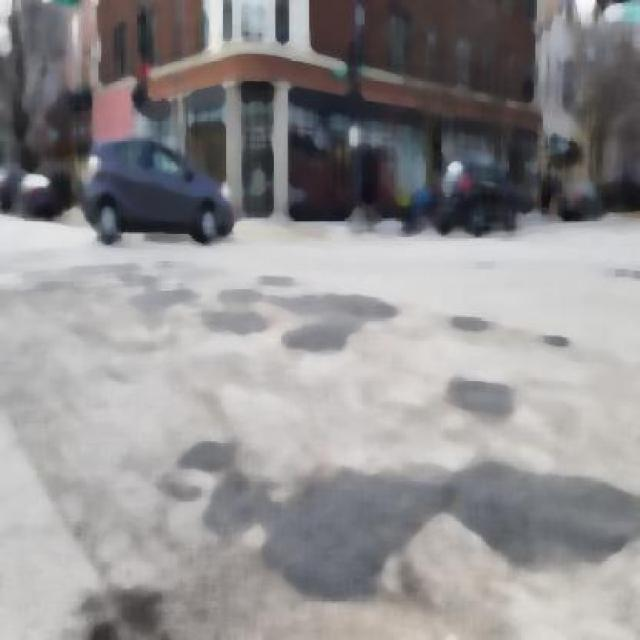Pothole: (191, 440, 424, 592), (218, 261, 388, 364), (453, 471, 639, 560), (84, 584, 161, 613)
